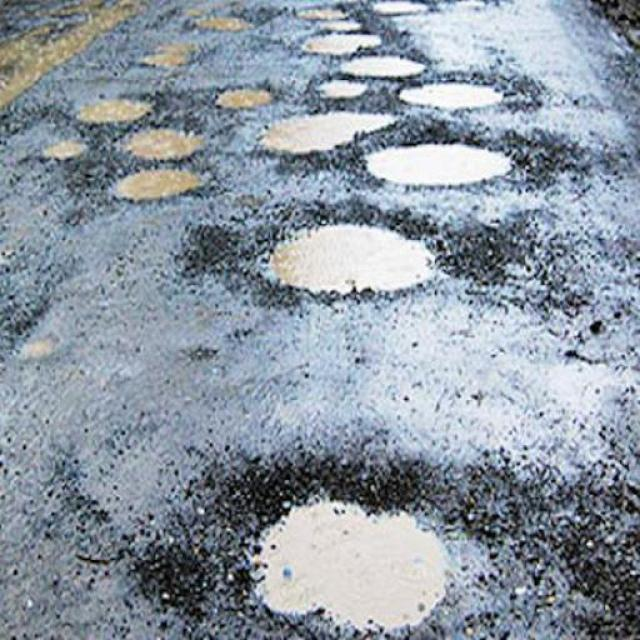puddle: (255, 493, 451, 635), (264, 227, 441, 311), (365, 139, 514, 200), (313, 23, 431, 86), (269, 101, 385, 152), (405, 70, 508, 124), (120, 160, 199, 211), (75, 98, 156, 133), (134, 128, 206, 157)
